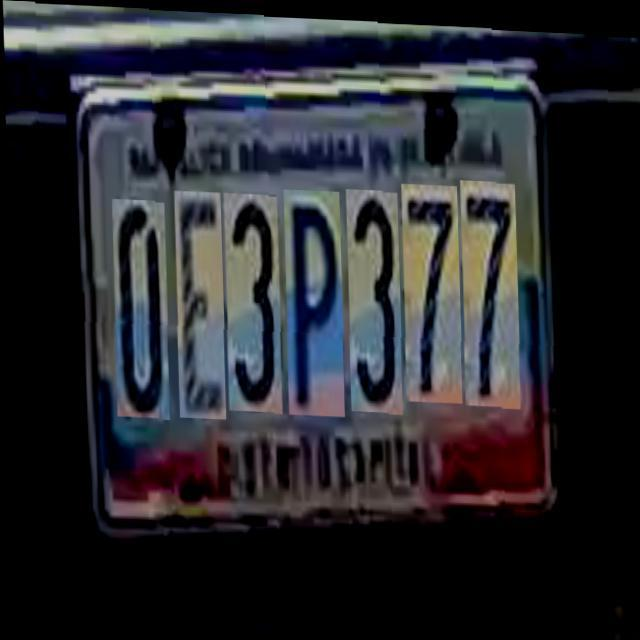0: (110, 198, 168, 417)
3: (344, 183, 401, 407), (222, 190, 280, 408)
7: (458, 172, 518, 398), (400, 176, 460, 395)
E: (172, 187, 224, 416)
P: (281, 184, 342, 410)
